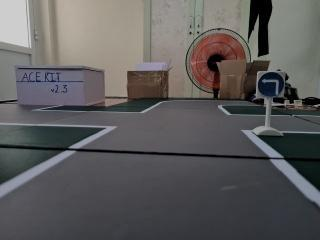left: (253, 65, 287, 101)
